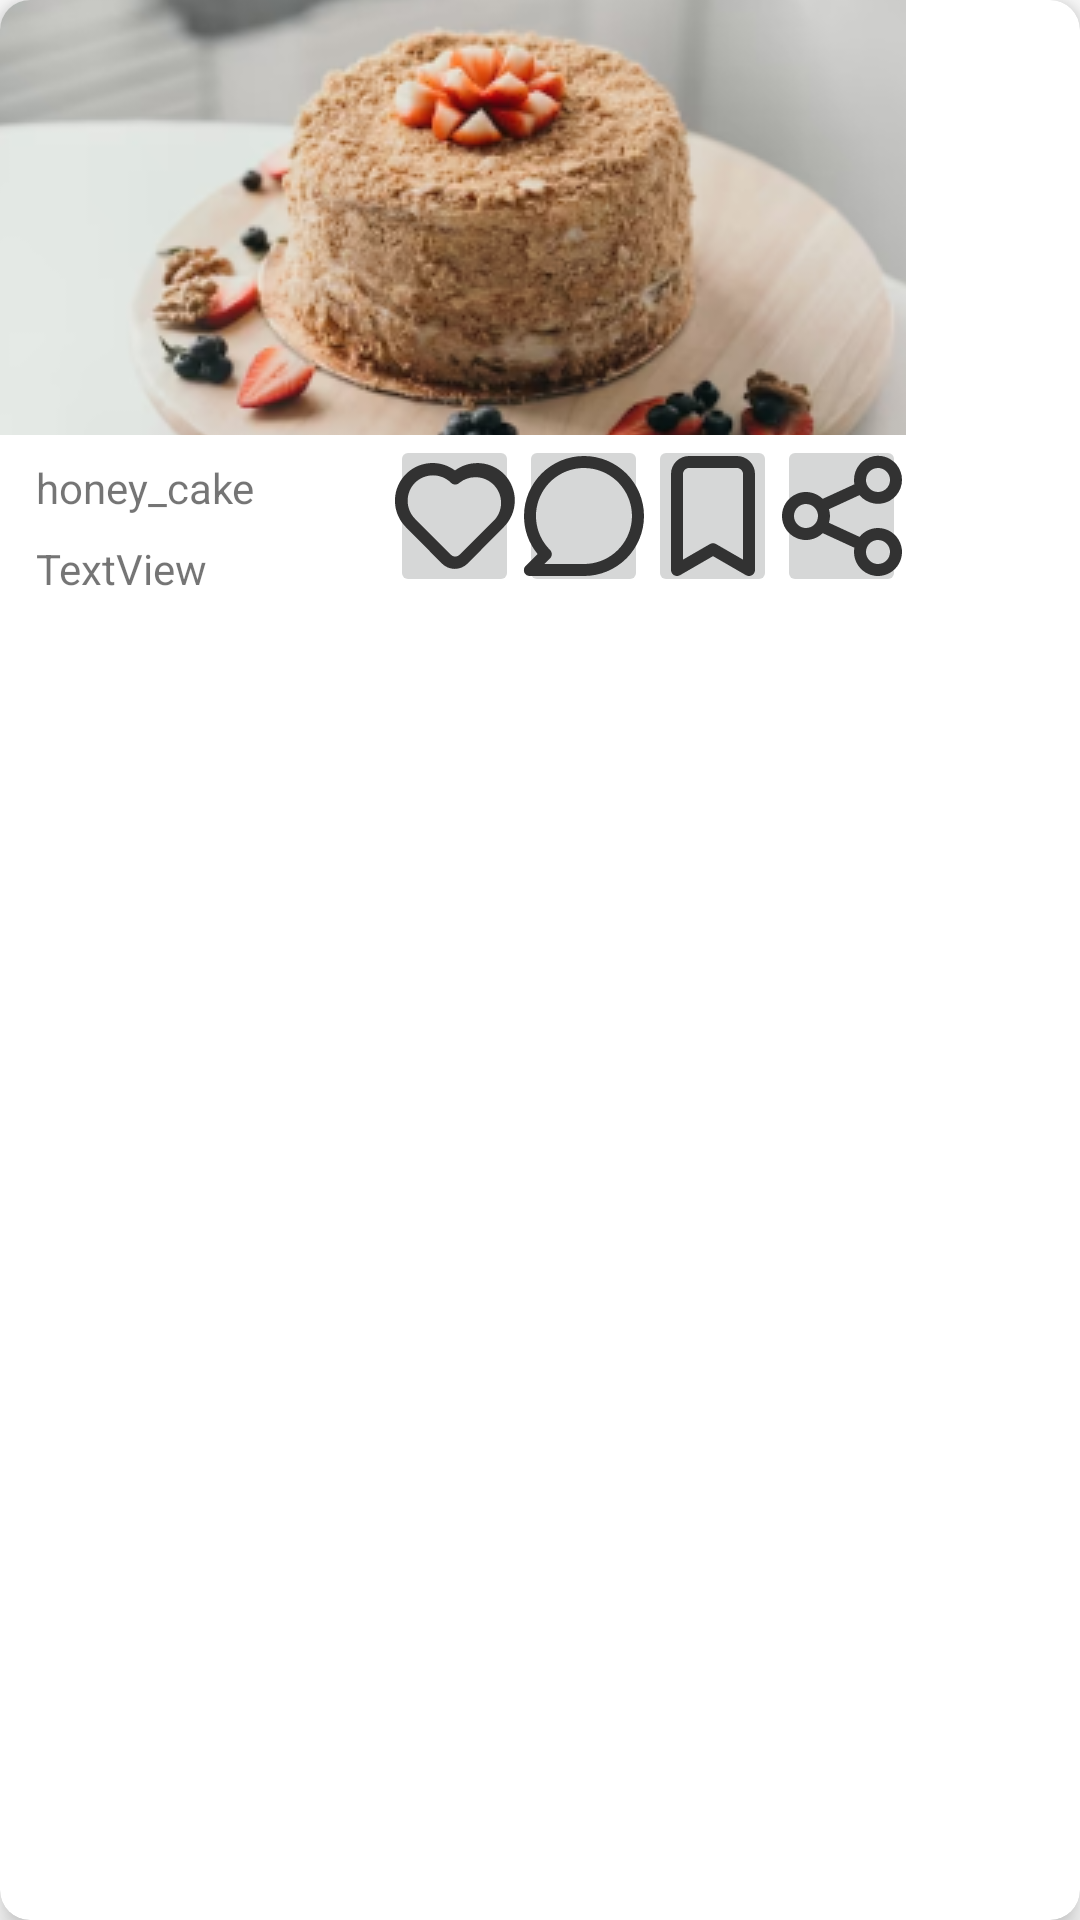

Screen size 1080 × 1920. Icon name, then its box in pixels as (x1, y1, x2, y2):
chat: (524, 453, 644, 579)
favorites: (660, 453, 765, 579)
like: (395, 453, 515, 579)
share: (782, 453, 902, 579)
